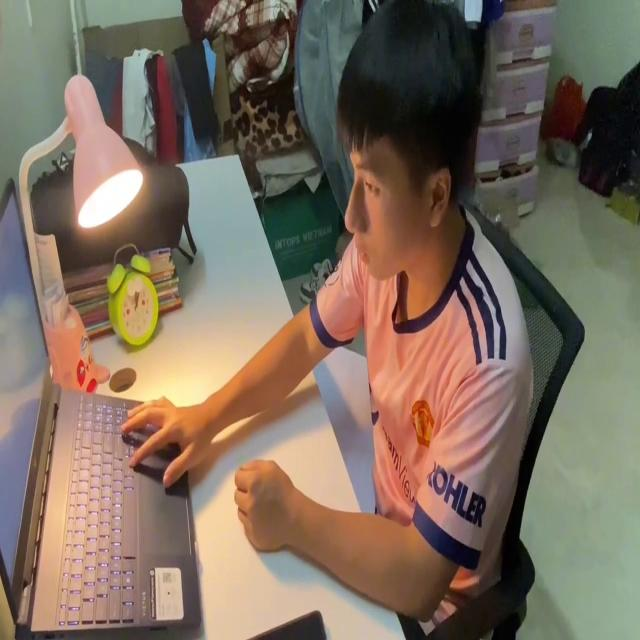book: (308, 330, 382, 520)
laptop: (1, 171, 202, 634)
phone: (252, 595, 329, 640)
student: (119, 0, 534, 640)
